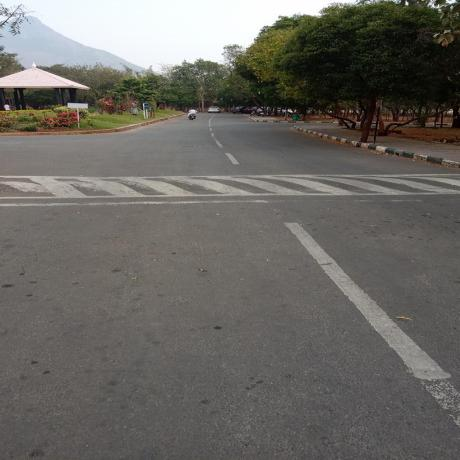Speed Bump: (1, 174, 457, 205)
